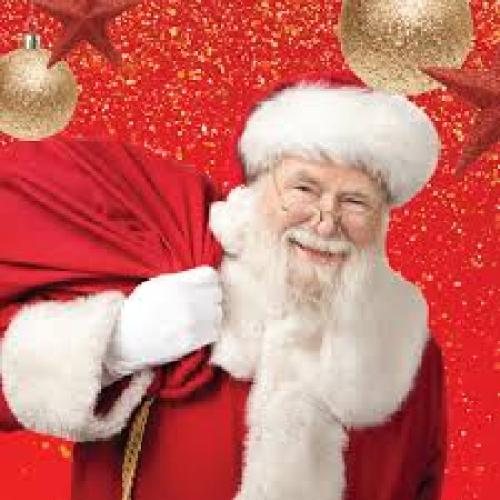Santa: (0, 72, 444, 500)
